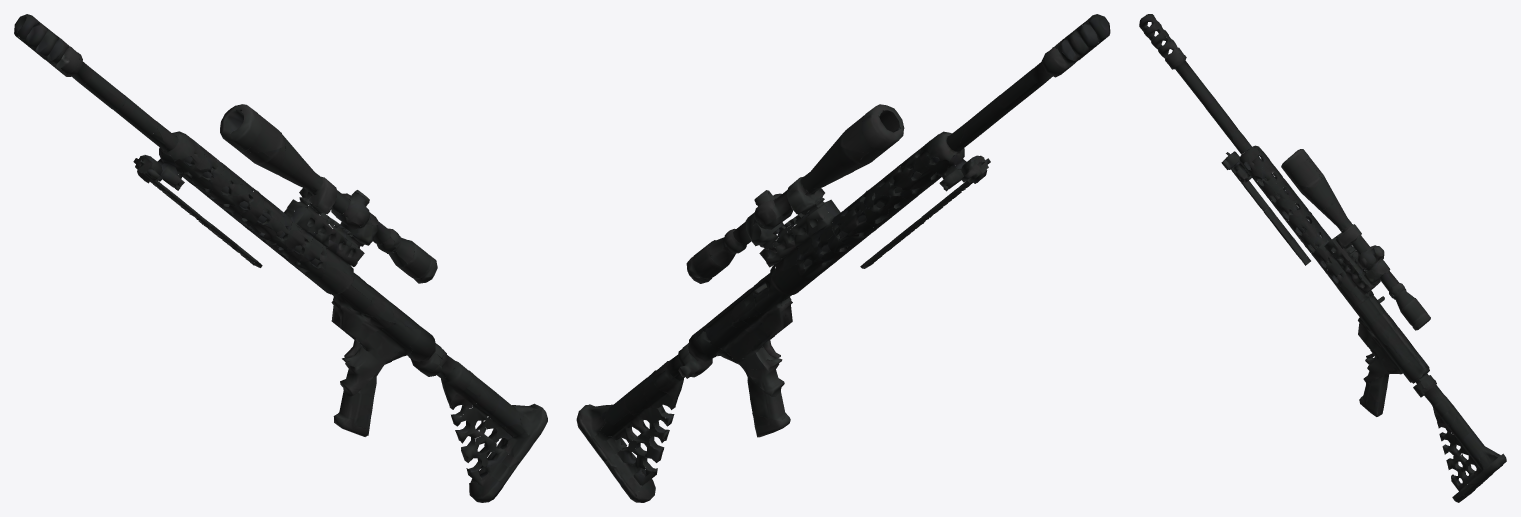
File: keskin-nisanci.glb
3 renders of one model, left to right at view 1: azimuth 30°, elevation 25°; view 2: azimuth 150°, elevation 25°; view 3: azimuth 330°, elevation 25°, orthographic. The views are drawn at different scales.
Visible parts, largest first — view 1: mesh_node; view 2: mesh_node; view 3: mesh_node.
Boxes of the visible parts, x1,y1,x2,y2 form: mesh_node: [14, 14, 547, 502]; mesh_node: [576, 14, 1110, 502]; mesh_node: [1139, 14, 1506, 502].
Bounding box in the file's own units: 1.77 × 1.9 × 0.1558.
1 material, 1 textured.
